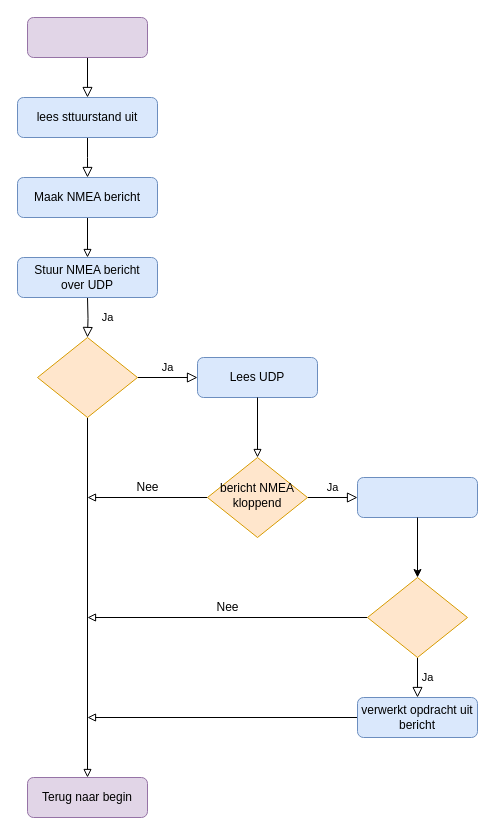
The diagram is 495 pixels wide and 835 high, and some of its shapes have lost their labels. The centre of each missing label's shape, as x and y in pixels:
"begin" belongs at (x=87, y=37).
"lees NMEA bericht" belongs at (x=417, y=497).
"NMEA bericht voor mij" belongs at (x=417, y=617).
"UDP beschikbaar" belongs at (x=87, y=377).
